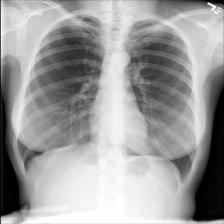normal: (12, 6, 202, 189)
